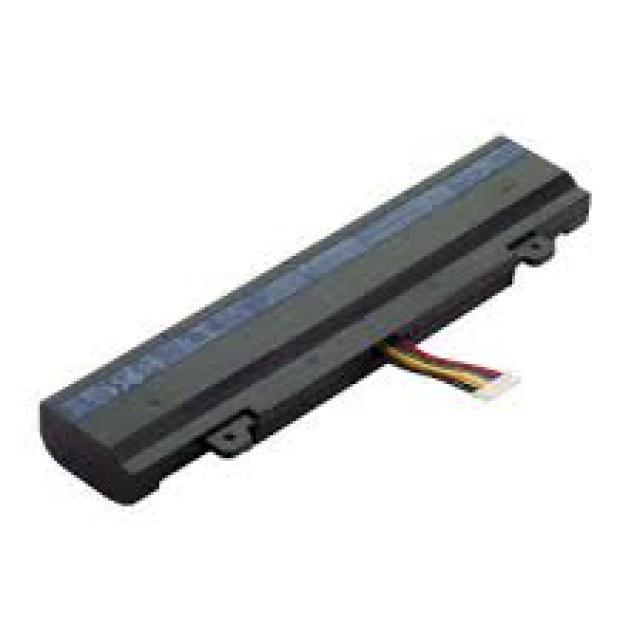battery: (39, 137, 595, 515)
